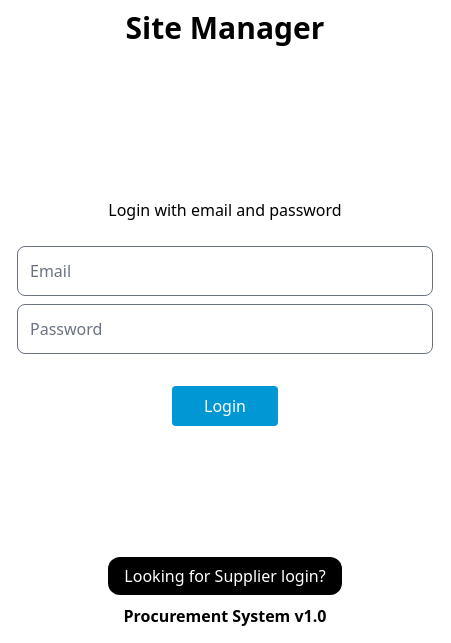
Scenario: validates email properly
In the field with placeholder "Email": (225, 271) [17, 246, 433, 296], type "dehemiweerakkodi2"
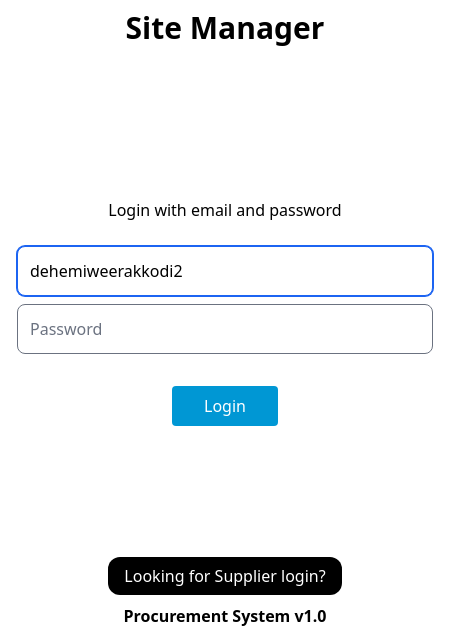
In the password field with placeholder "Password": (225, 329) [17, 304, 433, 354], type "qwertyuiop123#"
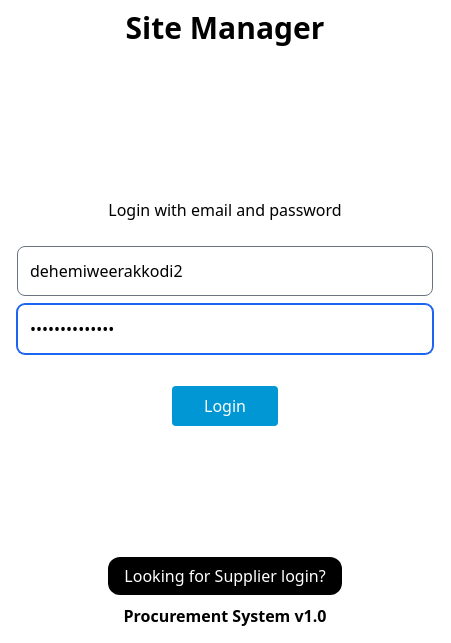
Click the submit button: (225, 406) [172, 386, 278, 426]
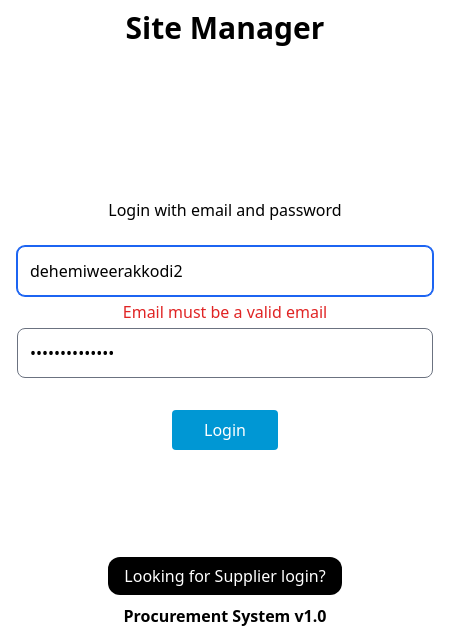
Now the text "Email must be a valid email" is shown, box [119, 296, 331, 328]
